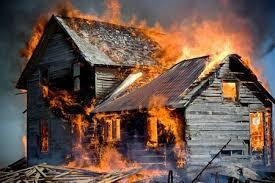fire: (248, 103, 273, 149)
